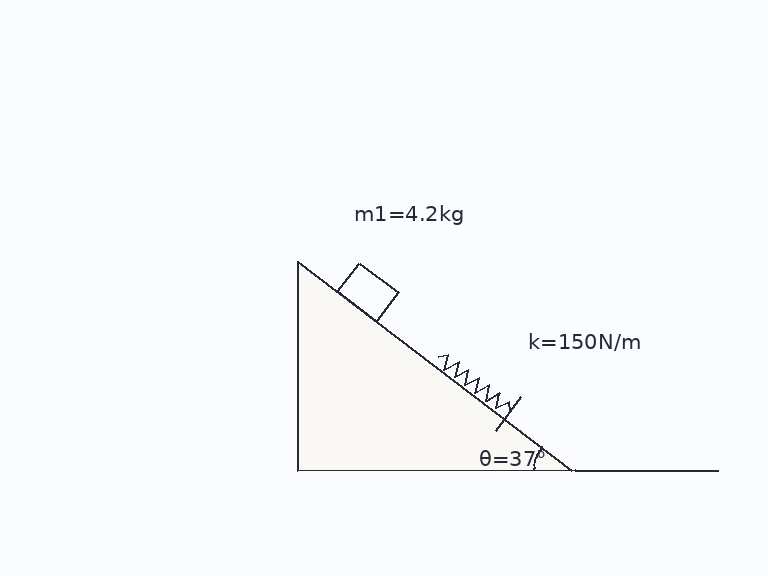block: (335, 261, 399, 323)
ramp: (296, 260, 576, 472)
spring: (436, 353, 512, 413)
